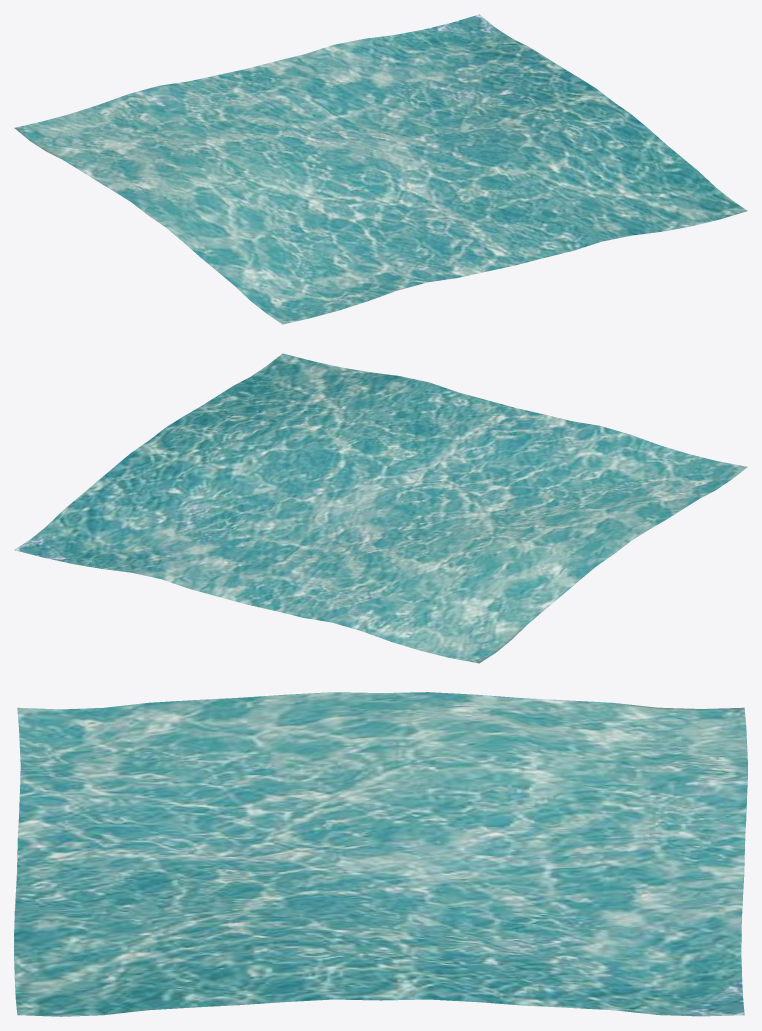
Rendered from water_000221.obj.
3 renders of one model, top to bottom at view 1: azimuth 30°, elevation 25°; view 2: azimuth 150°, elevation 25°; view 3: azimuth 270°, elevation 25°, orthographic. The views are drawn at different scales.
Parts seen in each view (by area): view 1: Plan.003_Plan.001; view 2: Plan.003_Plan.001; view 3: Plan.003_Plan.001.
Boxes of the visible parts, x1,y1,x2,y2 form: Plan.003_Plan.001: [14, 14, 747, 324]; Plan.003_Plan.001: [14, 353, 747, 663]; Plan.003_Plan.001: [14, 692, 747, 1016].
Bounding box in the file's own units: 60420 × 2177 × 60879.
